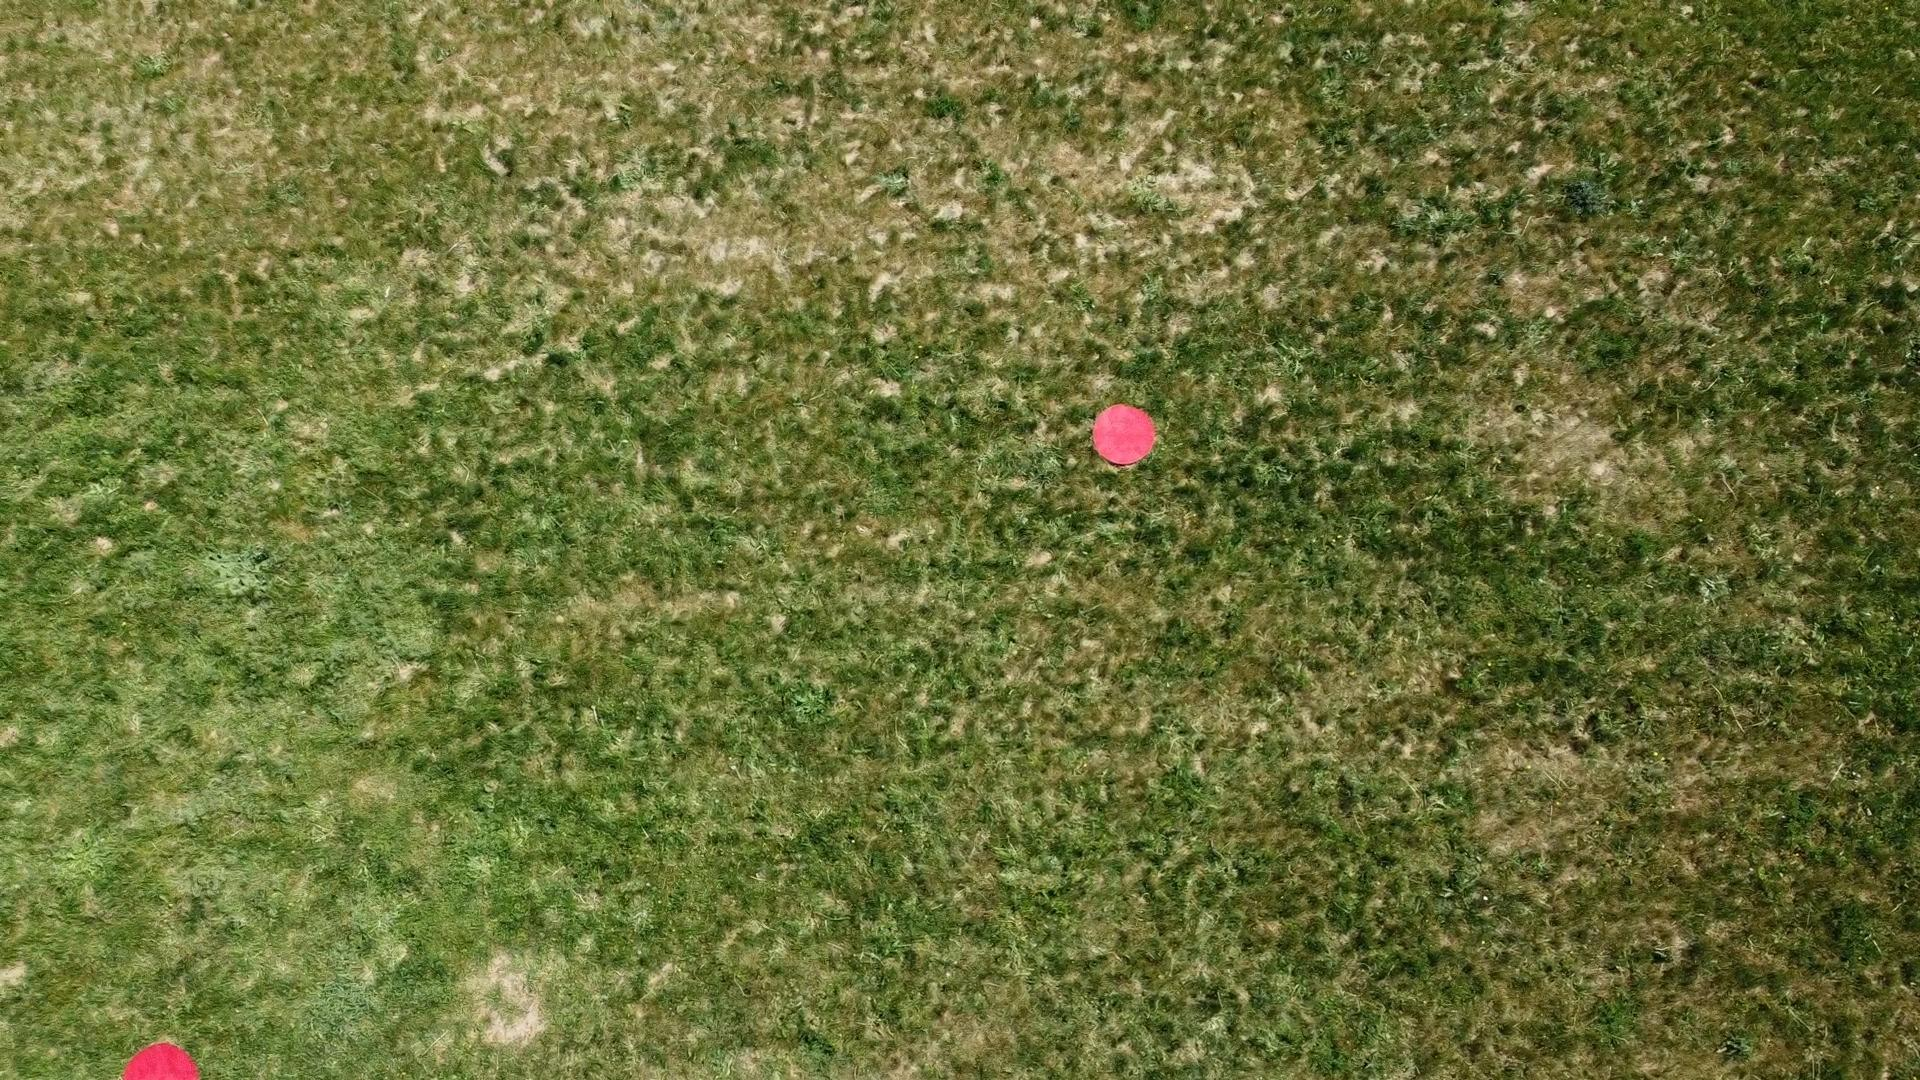Red: (1088, 401, 1160, 469), (112, 1036, 210, 1080)
